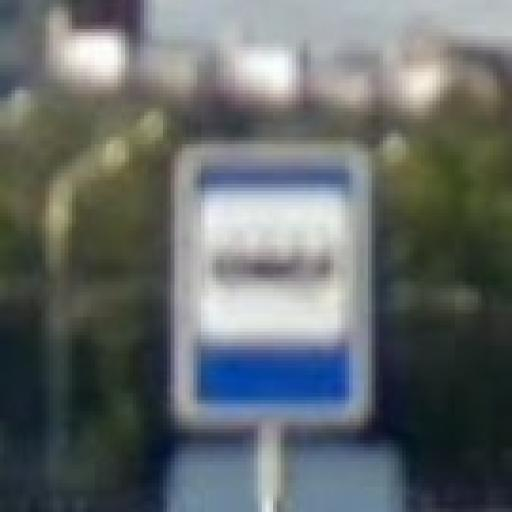traffic_sign: (172, 145, 369, 434)
